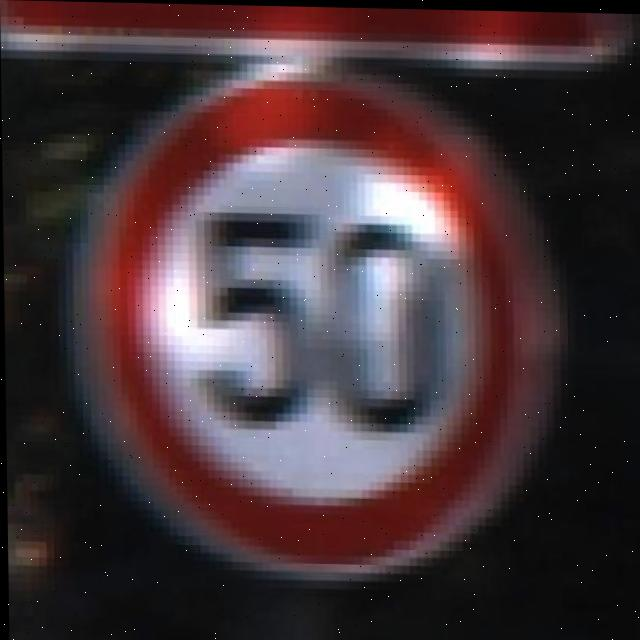Speed limit 50: (64, 67, 568, 586)
